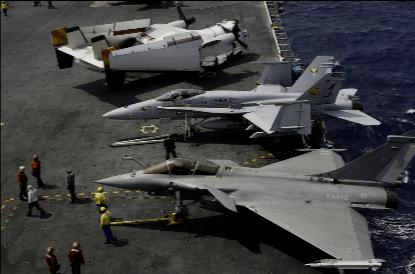C5: (49, 1, 251, 92)
F15: (102, 55, 382, 143)
RQ4: (93, 127, 414, 271)
